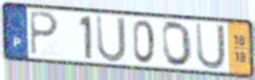0: (132, 19, 157, 65)
1: (77, 14, 94, 61)
O: (161, 20, 194, 69)
P: (28, 10, 61, 58)
U: (194, 21, 228, 72), (94, 14, 128, 64)
